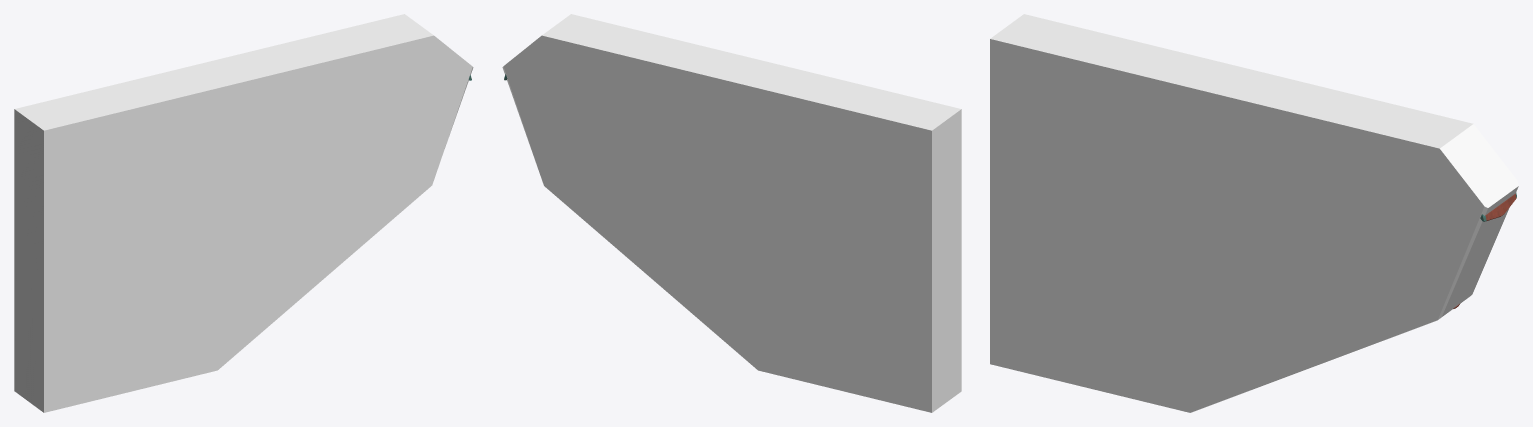
Rendered from SM_GCM_GongpoA.fbx.
The picture shows the model from 3 angles, left to right: view 1: azimuth 30°, elevation 25°; view 2: azimuth 150°, elevation 25°; view 3: azimuth 330°, elevation 25°; orthographic projection. The views are drawn at different scales.
Parts seen in each view (by area): view 1: SM_GCM_GongpoA_ConvexHulls; view 2: SM_GCM_GongpoA_ConvexHulls; view 3: SM_GCM_GongpoA_ConvexHulls.
Part boxes in pixels (x1,y1,x2,y2): SM_GCM_GongpoA_ConvexHulls: (14,14,473,412); SM_GCM_GongpoA_ConvexHulls: (502,14,961,412); SM_GCM_GongpoA_ConvexHulls: (990,14,1518,412).
Size of the model in its own units: 80.49 by 50.37 by 9.55.
Materials: 2 (1 with a texture image).
